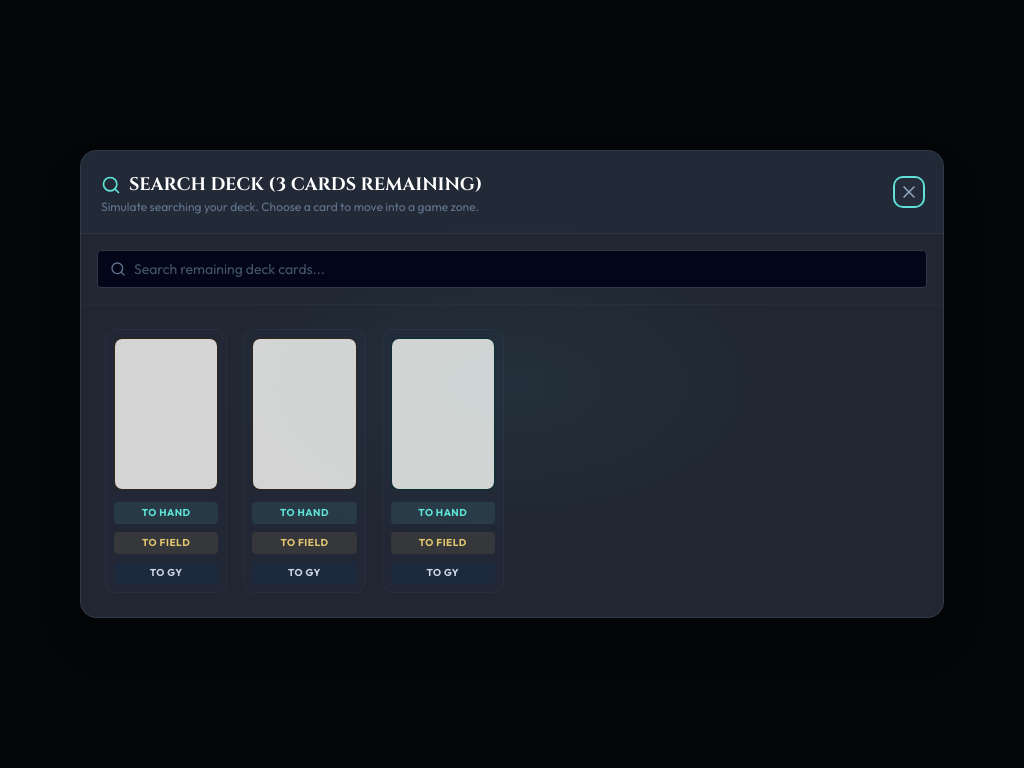
Test: DeckExplorerModal component › should show empty state if search matches nothing
In the field with placeholder "Search remaining deck cards...": (524, 269) x1=134 y1=259 x2=914 y2=279, type "Exodia"
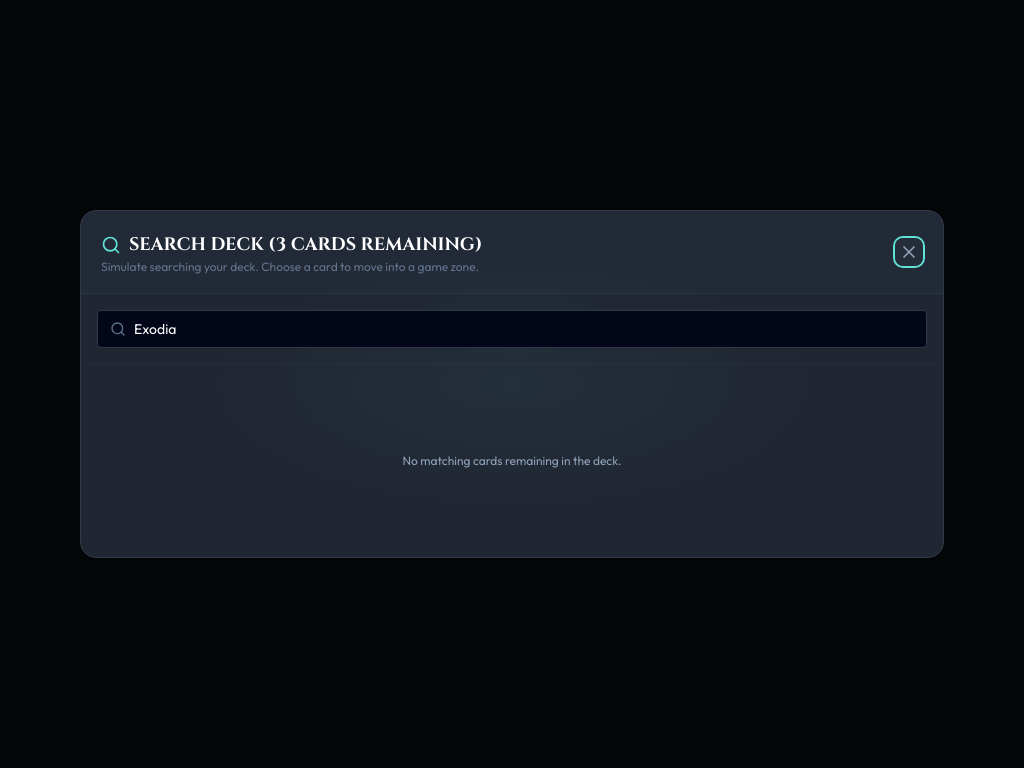
Expected: the text "No matching cards remaining in the deck." is shown, x1=402 y1=453 x2=621 y2=468
